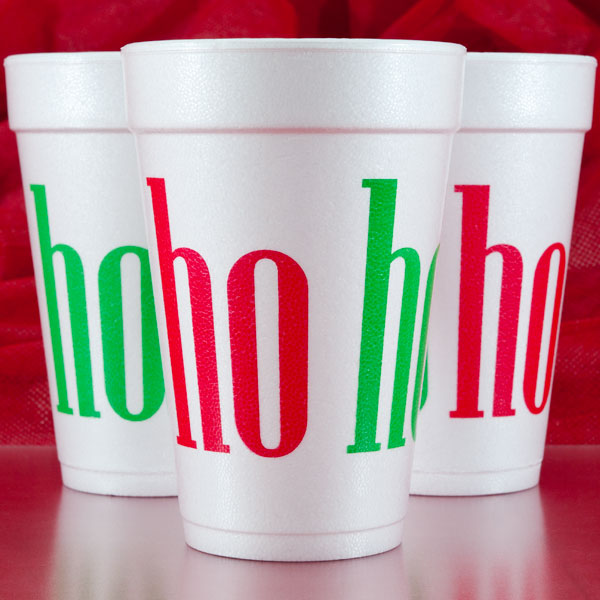Nonrec_Plastic: (112, 37, 443, 563), (391, 30, 599, 516), (1, 51, 199, 512)
